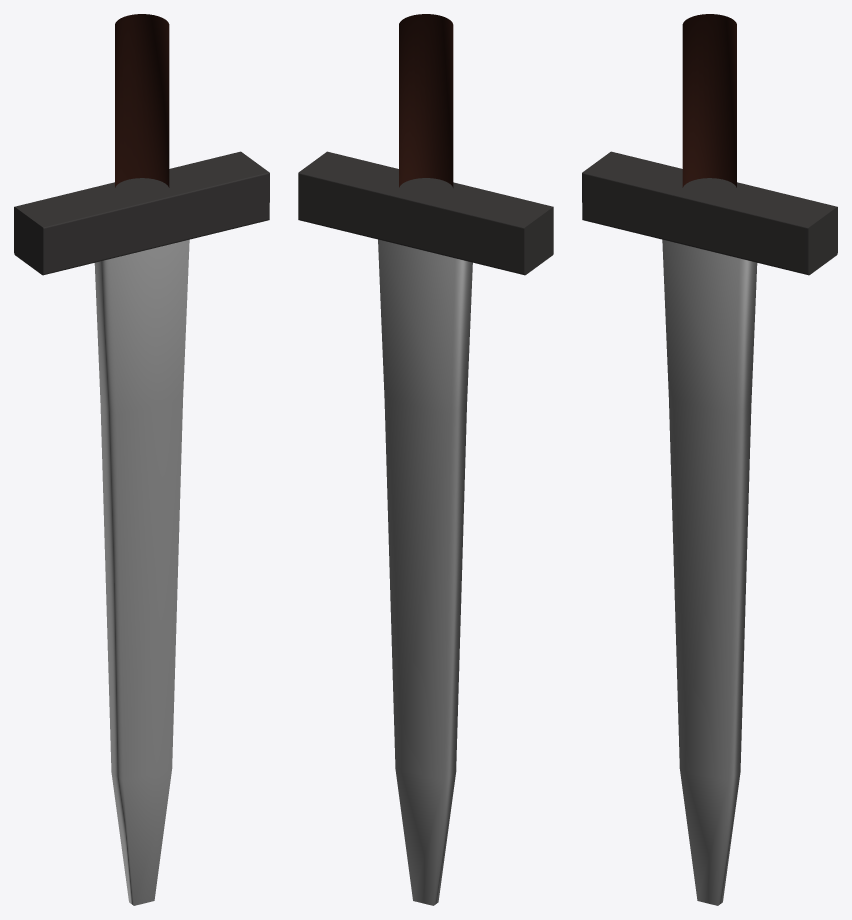
Rendered from M_Epee.fbx.
3 renders of one model, left to right at view 1: azimuth 30°, elevation 25°; view 2: azimuth 150°, elevation 25°; view 3: azimuth 330°, elevation 25°, orthographic.
Parts seen in each view (by area): view 1: Cube.002; view 2: Cube.002; view 3: Cube.002.
Part boxes in pixels (x1=…): Cube.002: x1=14, y1=14, x2=269, y2=905; Cube.002: x1=298, y1=14, x2=553, y2=905; Cube.002: x1=582, y1=14, x2=837, y2=905.
Bounding box in the file's own units: 102 × 379 × 23.09.
